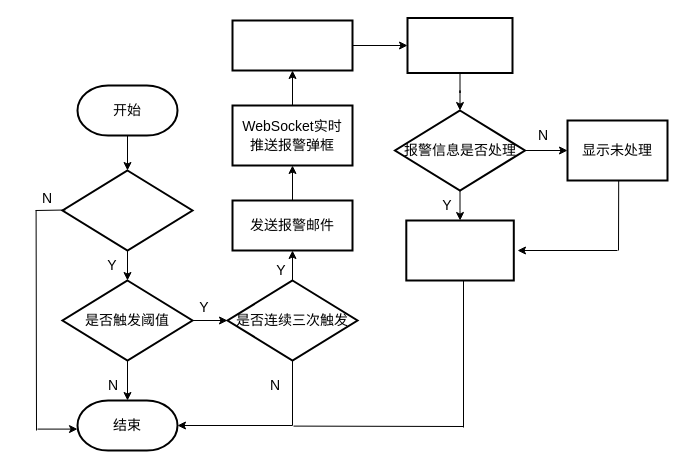
The diagram is 685 pixels wide and 469 high, and some of its shapes have lost their labels. Here are the shapes that lost their labels. From the top down, the centre of each, then its label:
(292,45): 报警铃声响起
(459,45): 对应图标变红
(127,210): 是否为需要 报警数据
(459,250): 显示已处理
